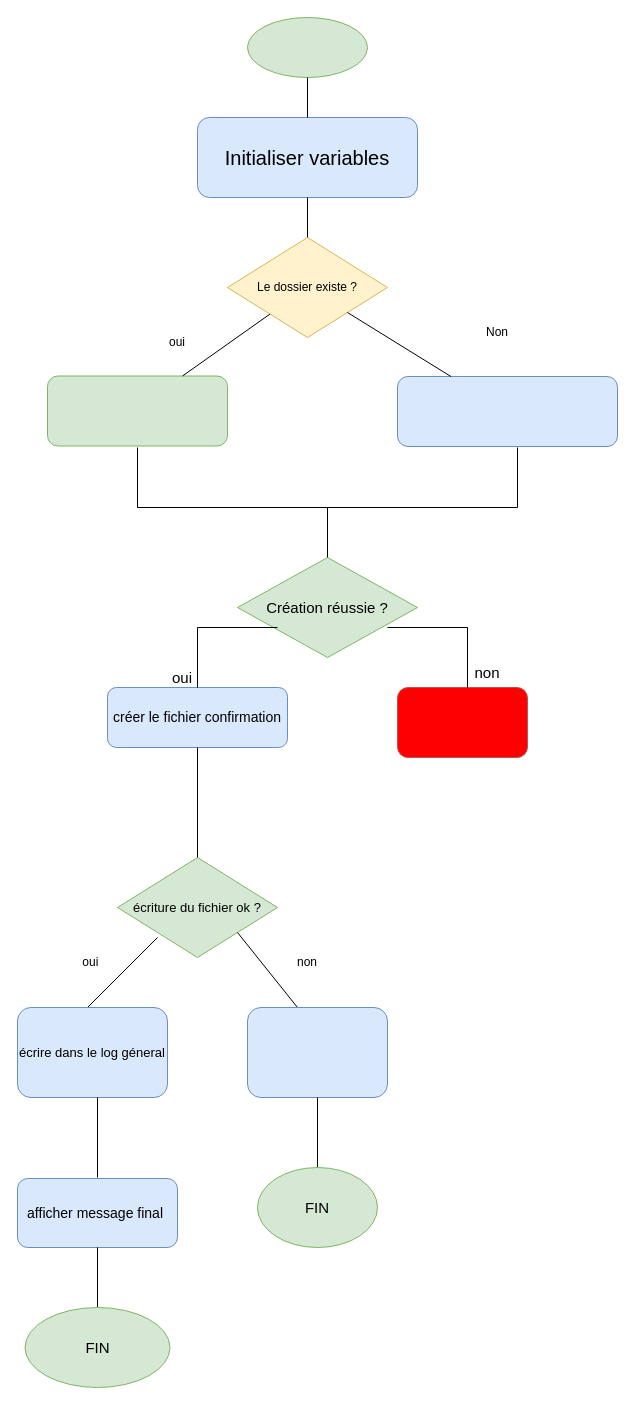
The diagram is 635 pixels wide and 1405 high, and some of its shapes have lost their labels. The shapes that lost their labels are listed below. From the top down, each one's centre as x and y in pixels, then its label:
the point at 307,47: DÉBUT
the point at 137,410: Passer a la prochaine étape
the point at 507,411: créer le dossier utilisateur
the point at 462,722: afficher une erreur
the point at 317,1052: afficher une erreur et arreter
